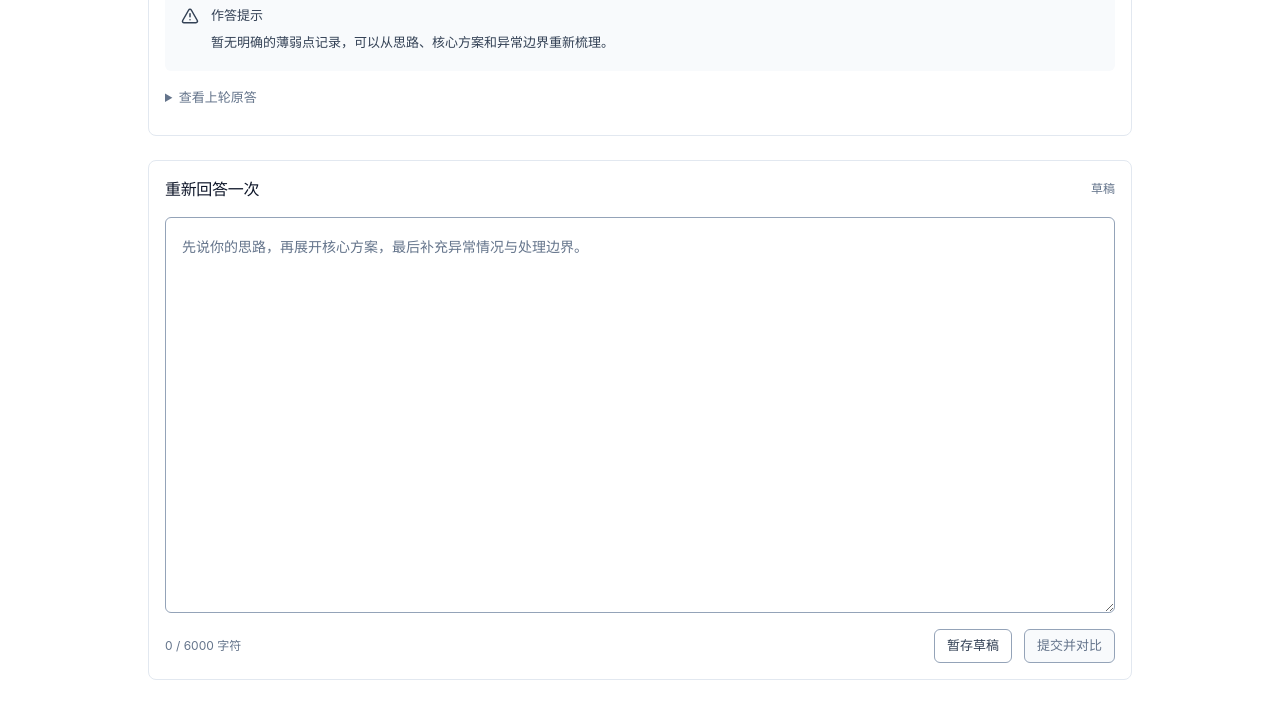
Scenario: 没有原答的故事首次作答只显示本次反馈，不伪造比较
(page scrolled)
Type "本次完整回答" into the text box with placeholder "先说你的思路，再展开核心方案，最后补充异常情况与处理边界。". click: point(640, 415)
box: top-left (165, 217), bottom-right (1115, 613)
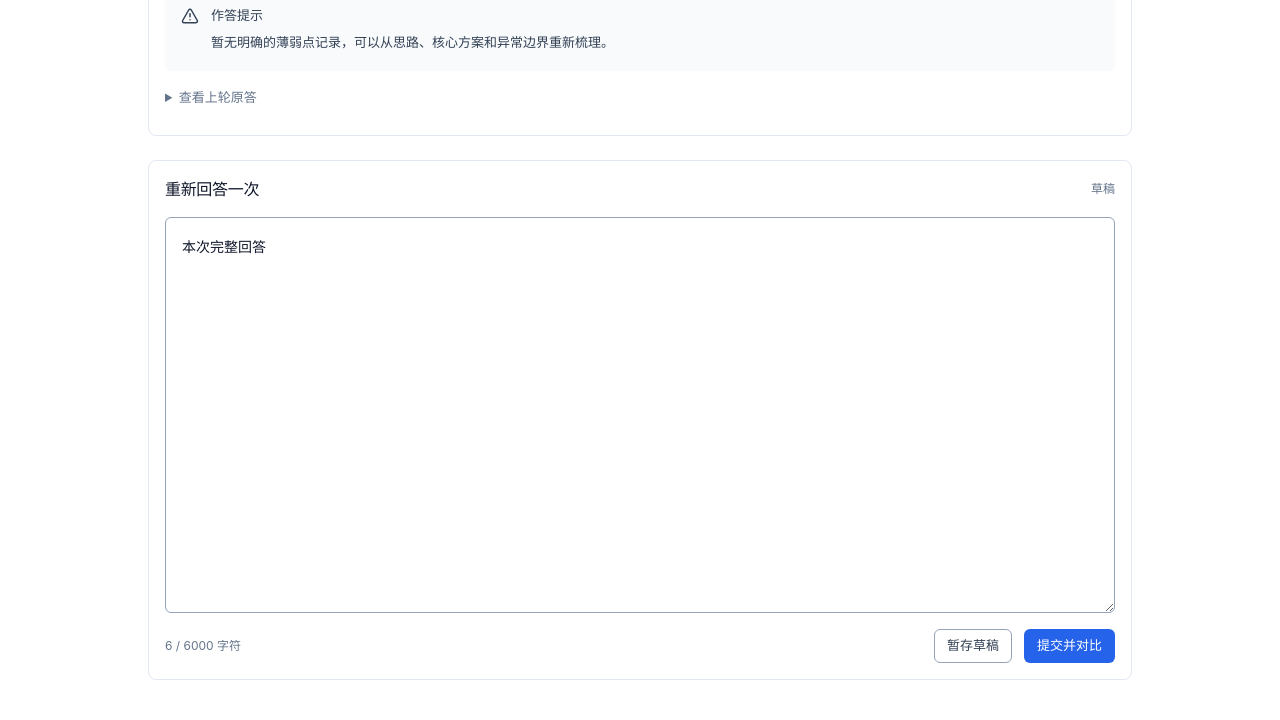
Click the button "提交并对比". click: point(1070, 646)
box: top-left (1024, 629), bottom-right (1115, 663)
(page scrolled)
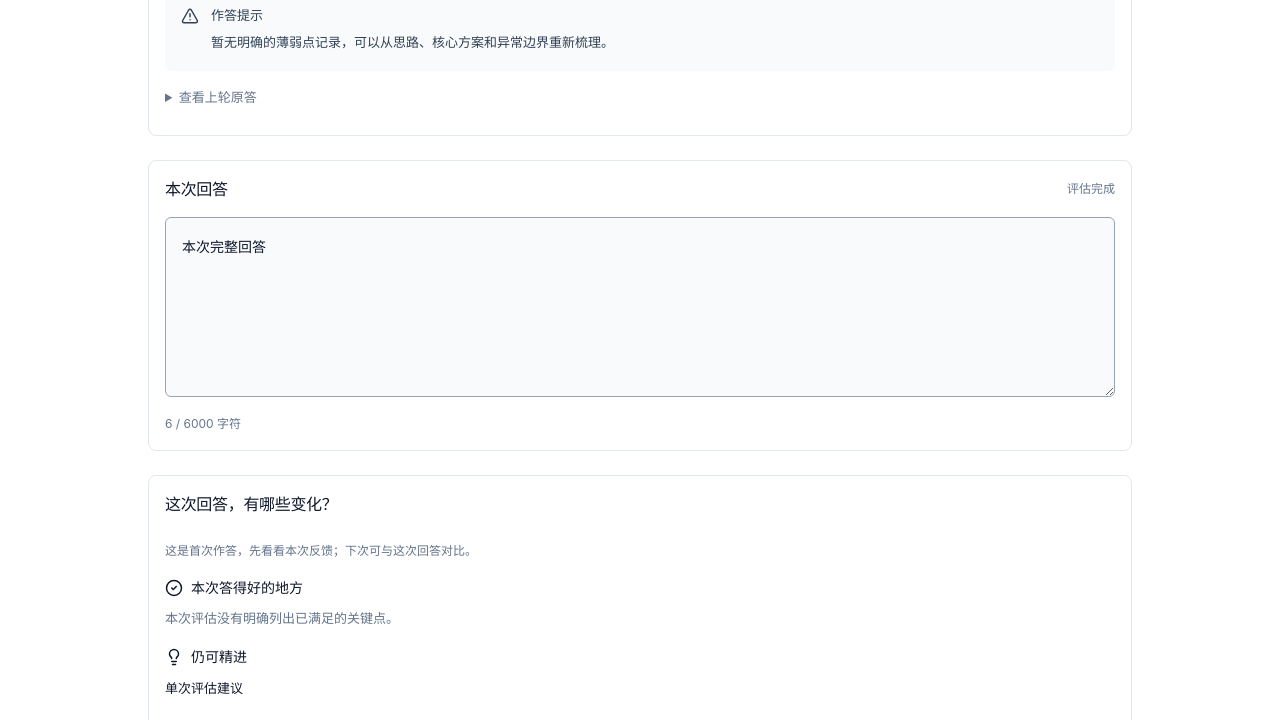
Check: the text "单次评估建议" is shown, box top-left (165, 680), bottom-right (243, 696)
